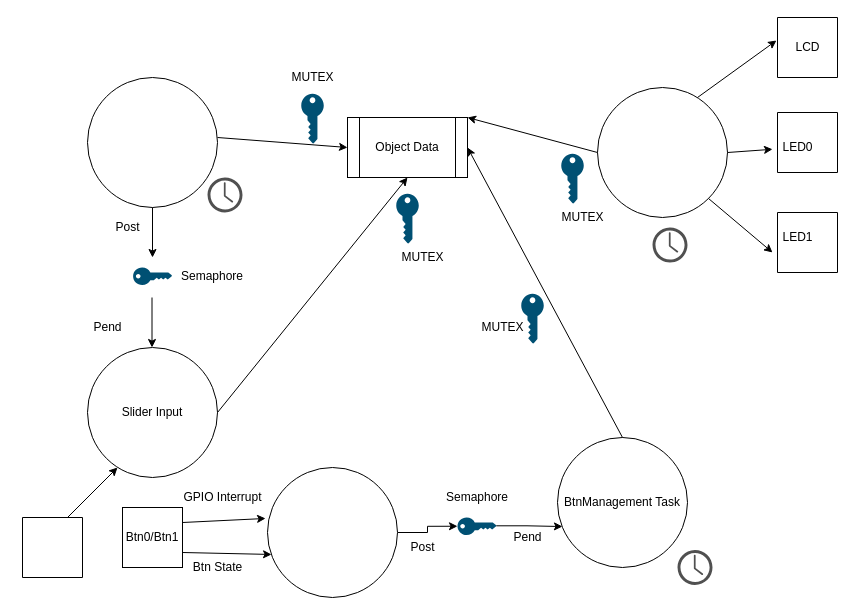
Image size: 855x615. Some labels were removed from this diagram. Each missing label, with the box of its shape:
Button ISR: (266, 466, 398, 598)
Physics Engine: (86, 76, 218, 208)
Render: (596, 86, 728, 218)
Slider: (22, 516, 82, 578)
